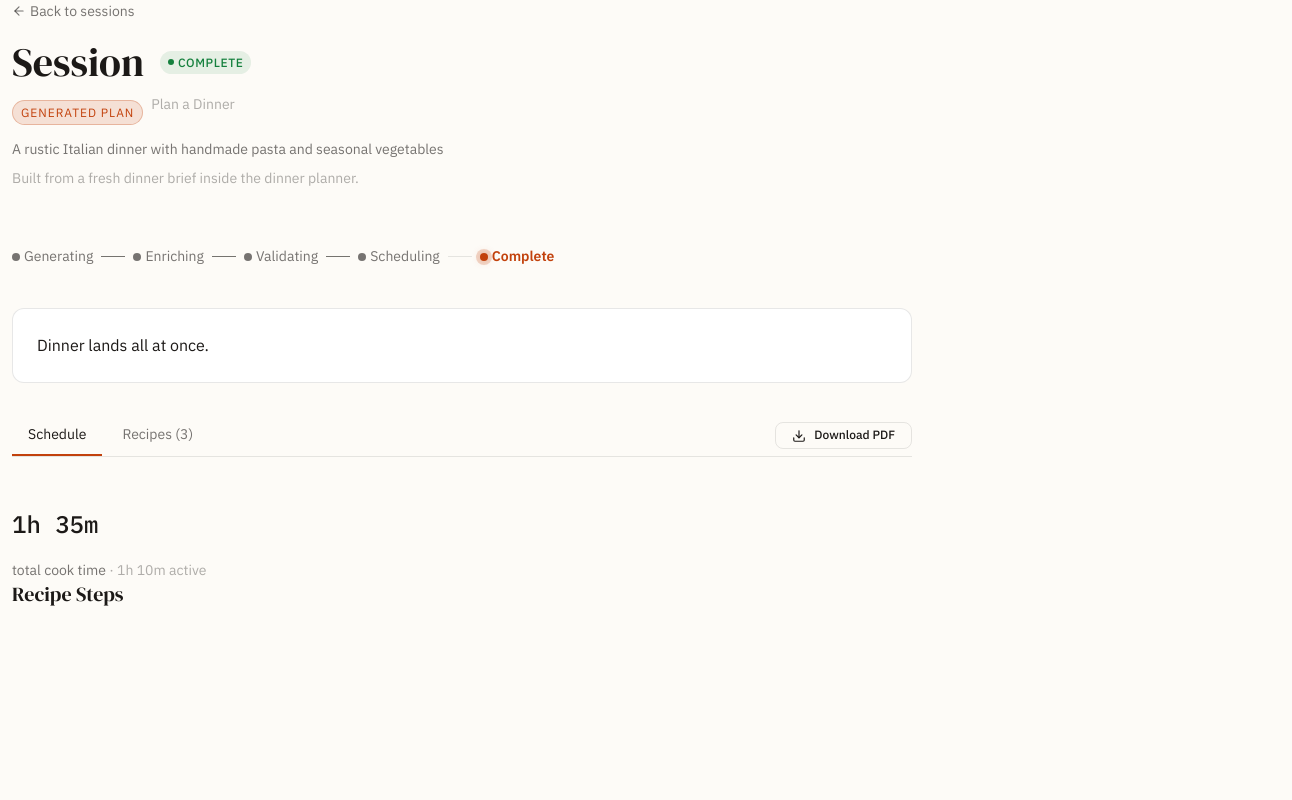
Test: session presentation › renders canonical per-recipe provenance in the session detail recipes tab
Step 1. Click the button "Recipes (3)" → (158, 436), box [106,415,209,456]
(page scrolled)
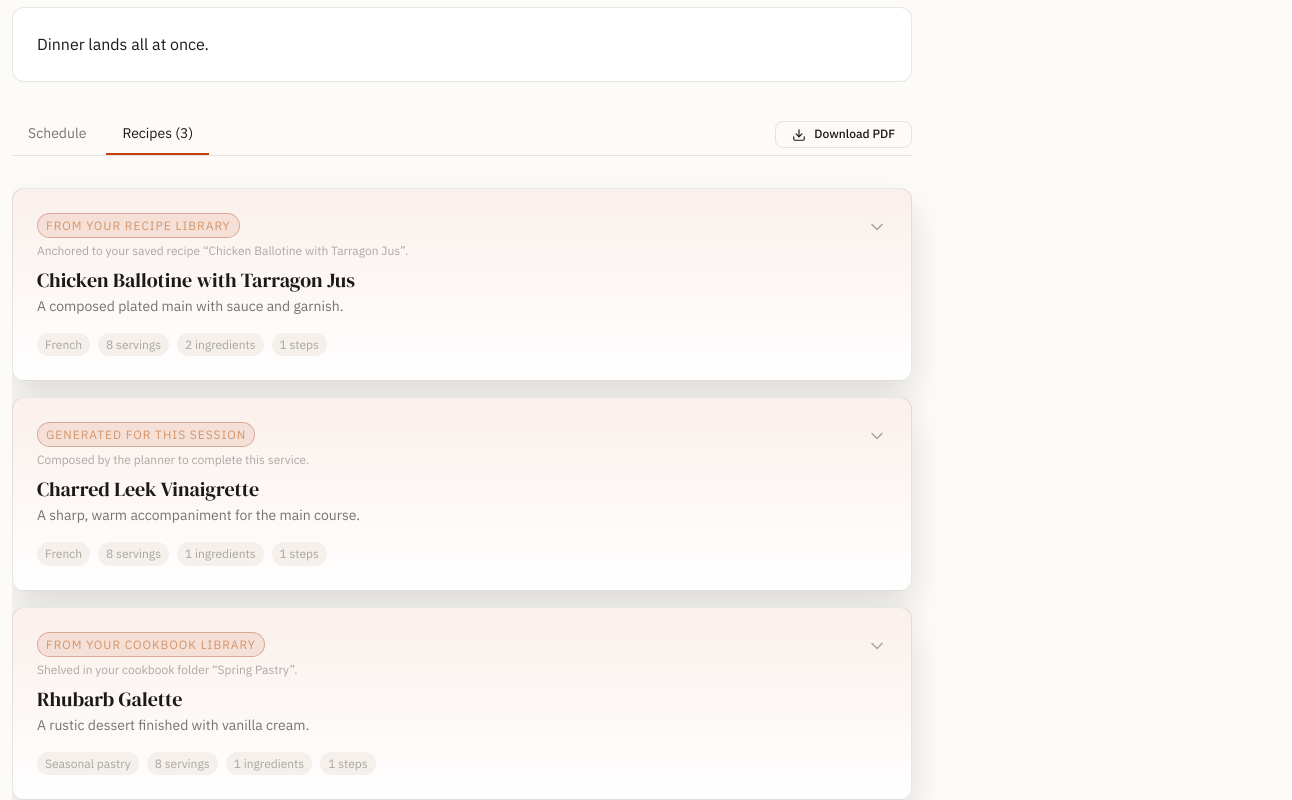
Expected: the text "From your recipe library" is shown, [37,213,240,238]
Expected: the text "Anchored to your saved recipe “Chicken Ballotine with Tarragon Jus”." is shown, [37,243,408,258]
Expected: the text "Generated for this session" is shown, [37,422,255,447]
